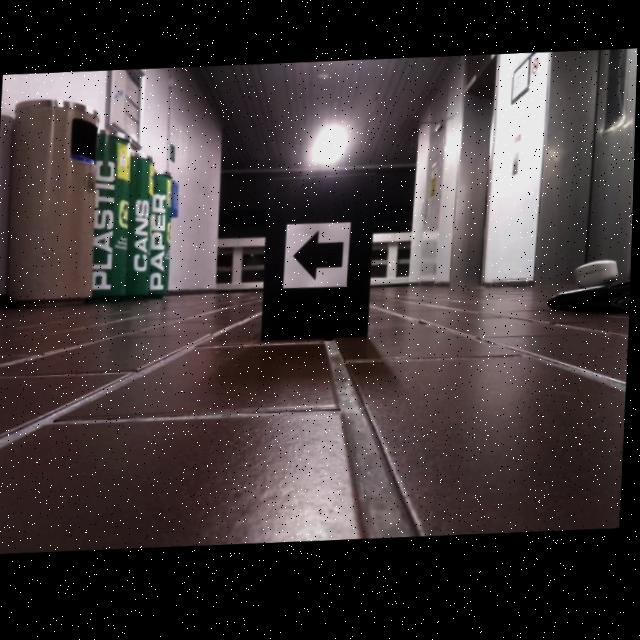LEFT: (294, 233, 345, 285)
